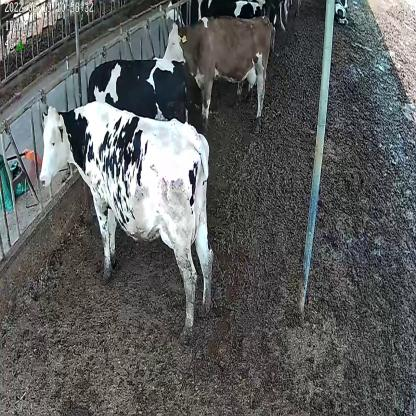cow: (36, 98, 217, 346), (157, 13, 276, 127), (79, 60, 207, 134), (335, 0, 350, 28)
